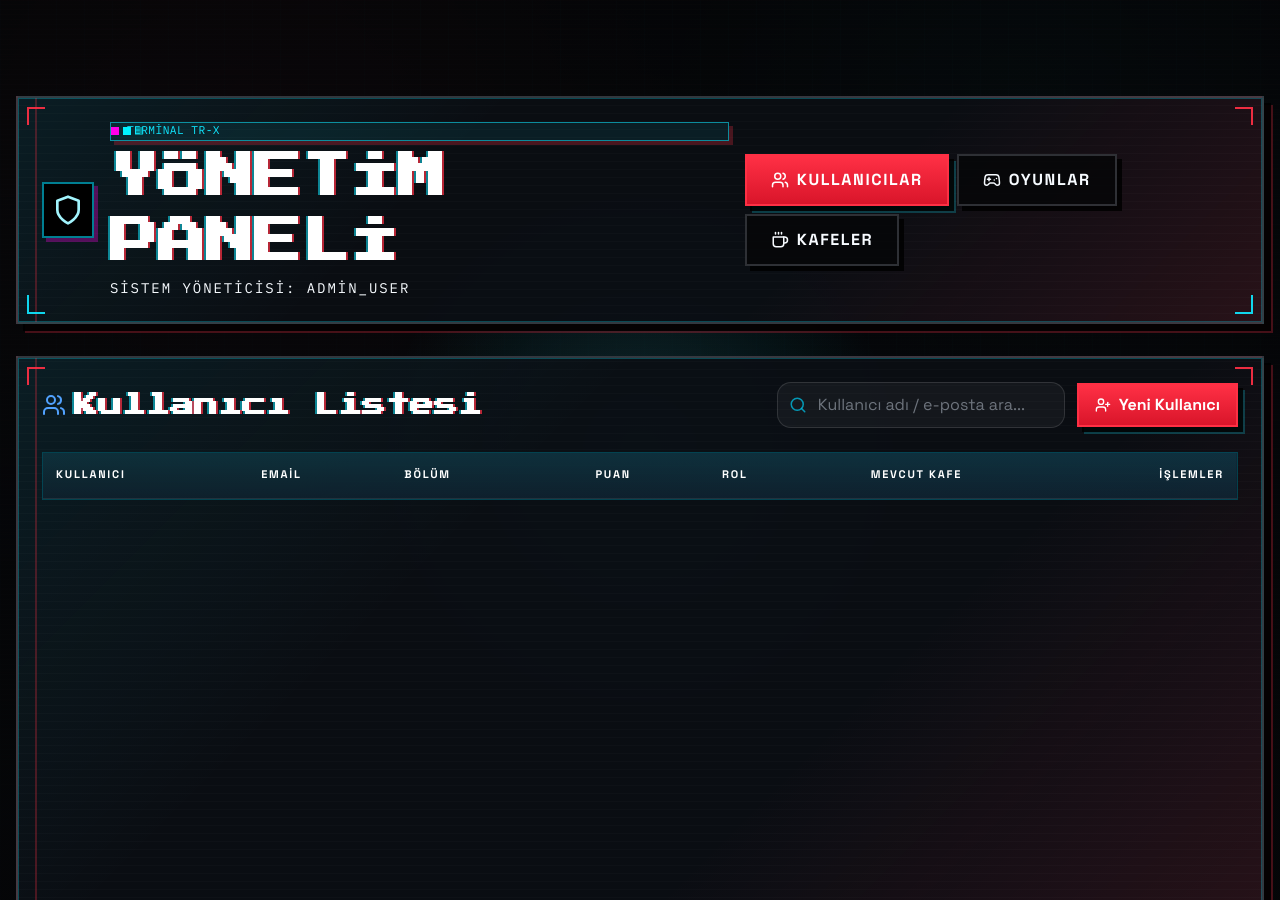
Test: AdminDashboard › shows game status badges
What coordinates should you click on to do the following:
click the button "Oyunlar"
I would click on:
 (1037, 180)
Its box is x1=957 y1=154 x2=1117 y2=206.
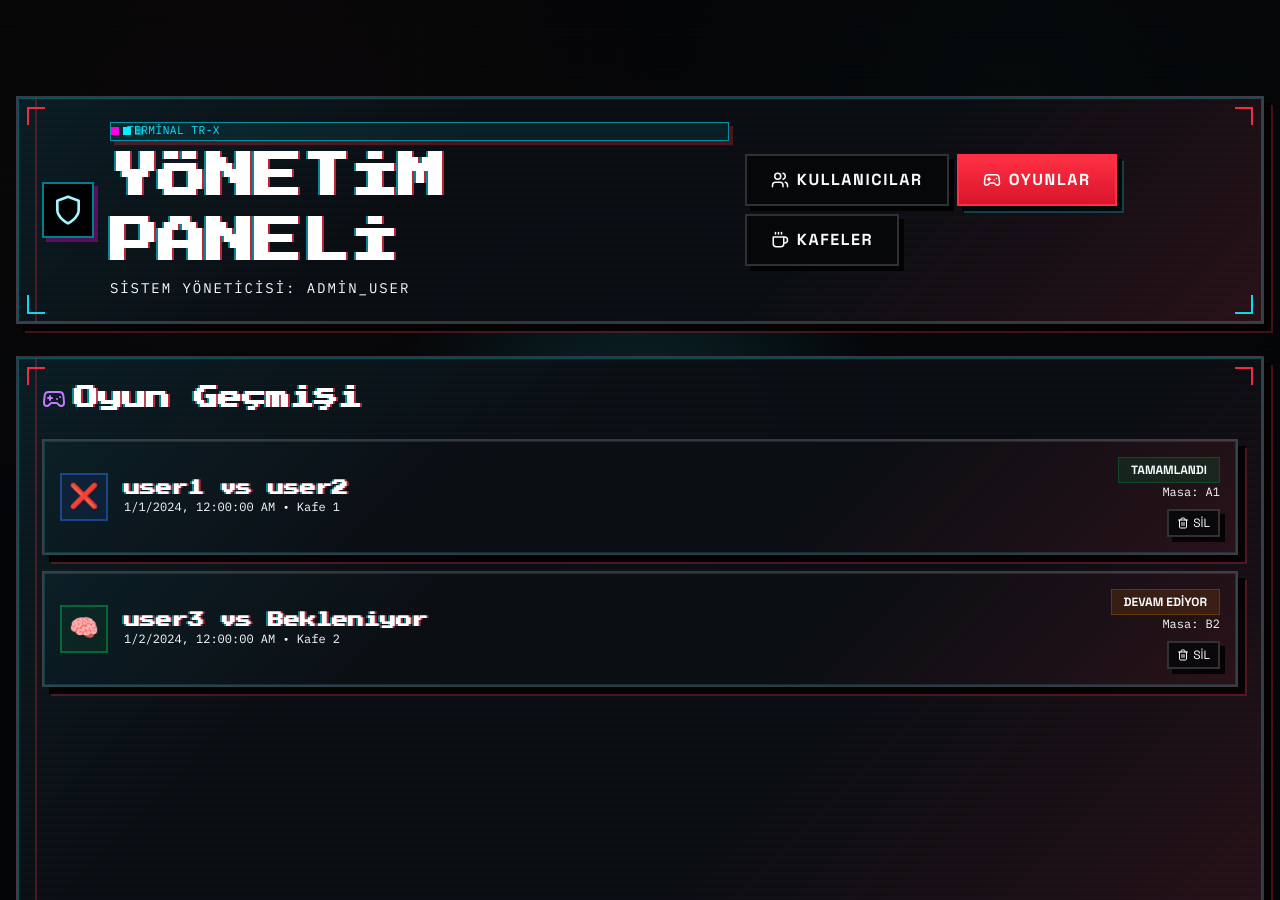
Now the text "TAMAMLANDI" is shown, box x1=1118 y1=457 x2=1220 y2=483
Now the text "DEVAM EDİYOR" is shown, box x1=1111 y1=589 x2=1220 y2=615
